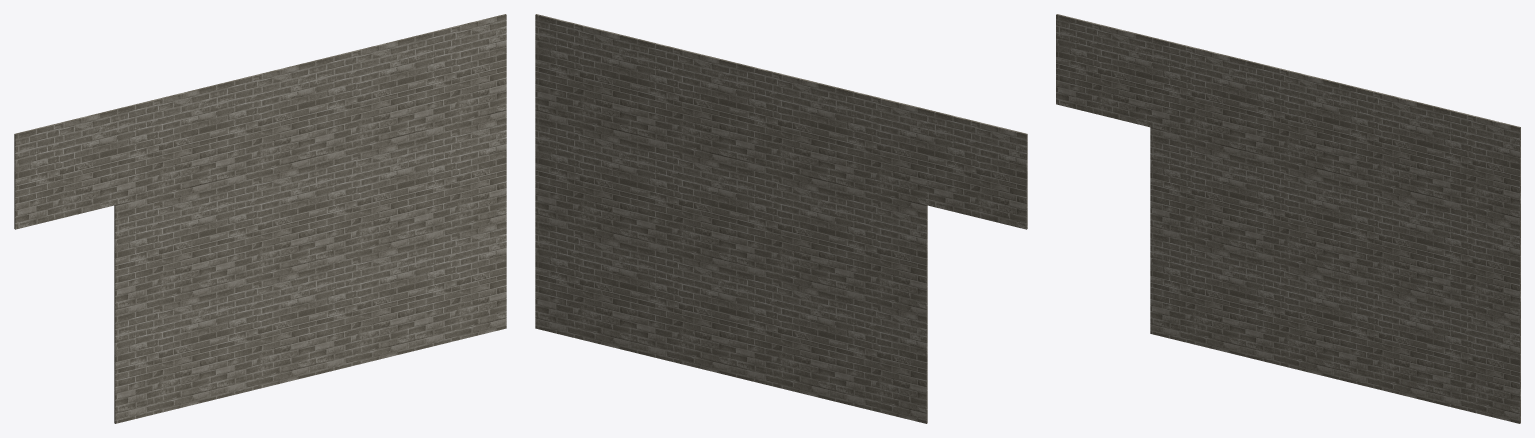
Rendered from featurewall-2.FBX.
The picture shows the model from 3 angles, left to right: view 1: azimuth 30°, elevation 25°; view 2: azimuth 150°, elevation 25°; view 3: azimuth 330°, elevation 25°; orthographic projection. The views are drawn at different scales.
Parts seen in each view (by area): view 1: feature wall-2; view 2: feature wall-2; view 3: feature wall-2.
Boxes of the visible parts, box(x1,y1,x2,y2) form: feature wall-2: box(14, 14, 506, 423); feature wall-2: box(535, 14, 1027, 423); feature wall-2: box(1056, 14, 1520, 423).
Size of the model in its own units: 495 by 302 by 2.01.
